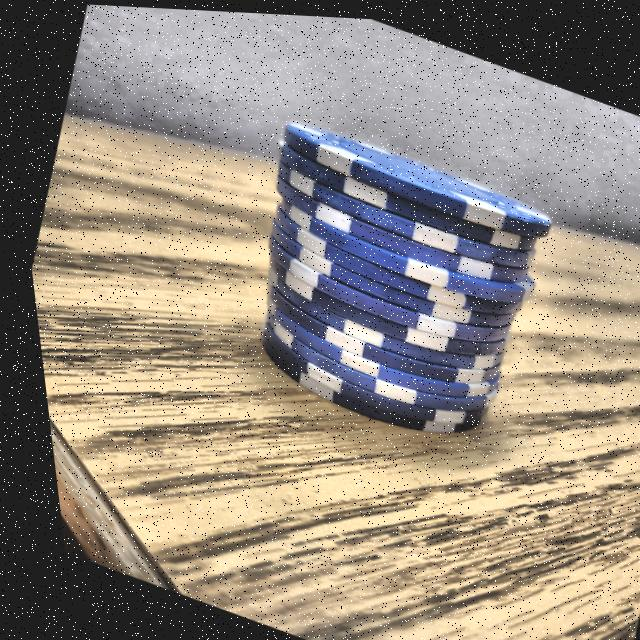Chip: (174, 85, 604, 485)
